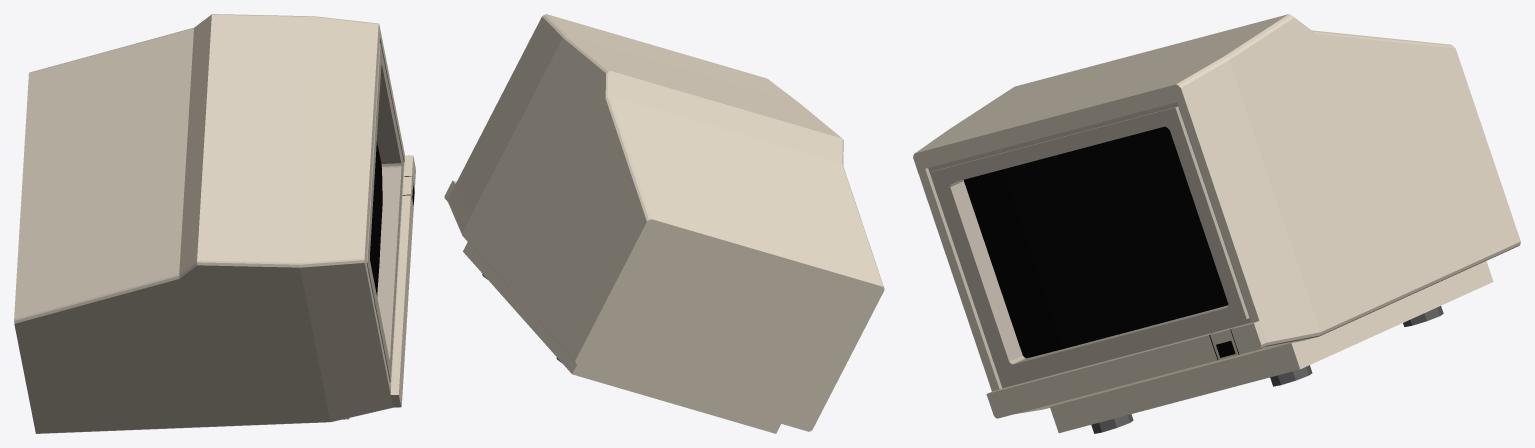
Rendered from RGB_MONT.glb.
3 views of the same model, side by side, from view 1: azimuth 30°, elevation 25°; view 2: azimuth 150°, elevation 25°; view 3: azimuth 270°, elevation 25° (orthographic). The views are drawn at different scales.
Parts seen in each view (by area): view 1: _0; view 2: _0; view 3: _0.
Part boxes in pixels (x1,y1,x2,y2): _0: (14, 14, 415, 433); _0: (444, 14, 884, 433); _0: (913, 14, 1520, 433).
Bounding box in the file's own units: 6.82 × 5.41 × 7.03.
